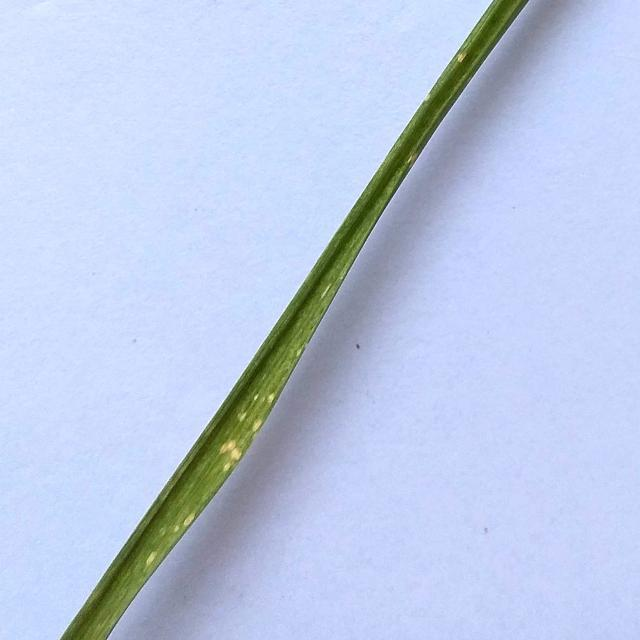Blast: (222, 440, 242, 478), (239, 410, 262, 430), (176, 512, 202, 528), (142, 548, 160, 568), (318, 278, 334, 300), (456, 56, 468, 68), (405, 154, 417, 164)
